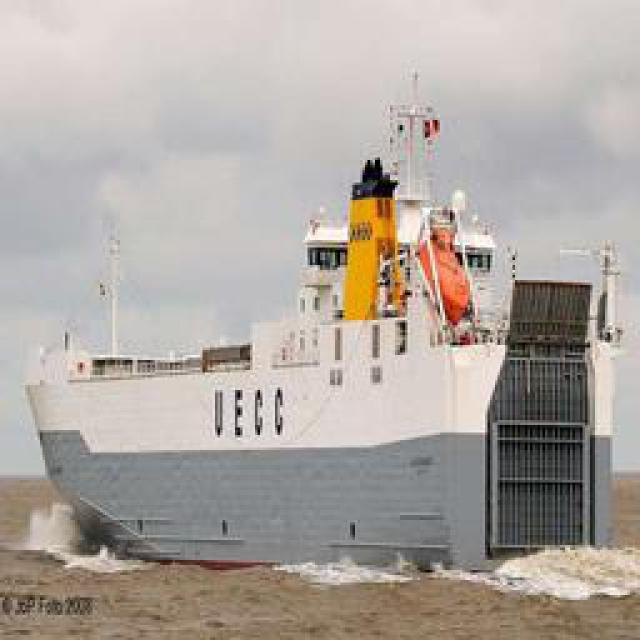Ship: (22, 71, 635, 582)
